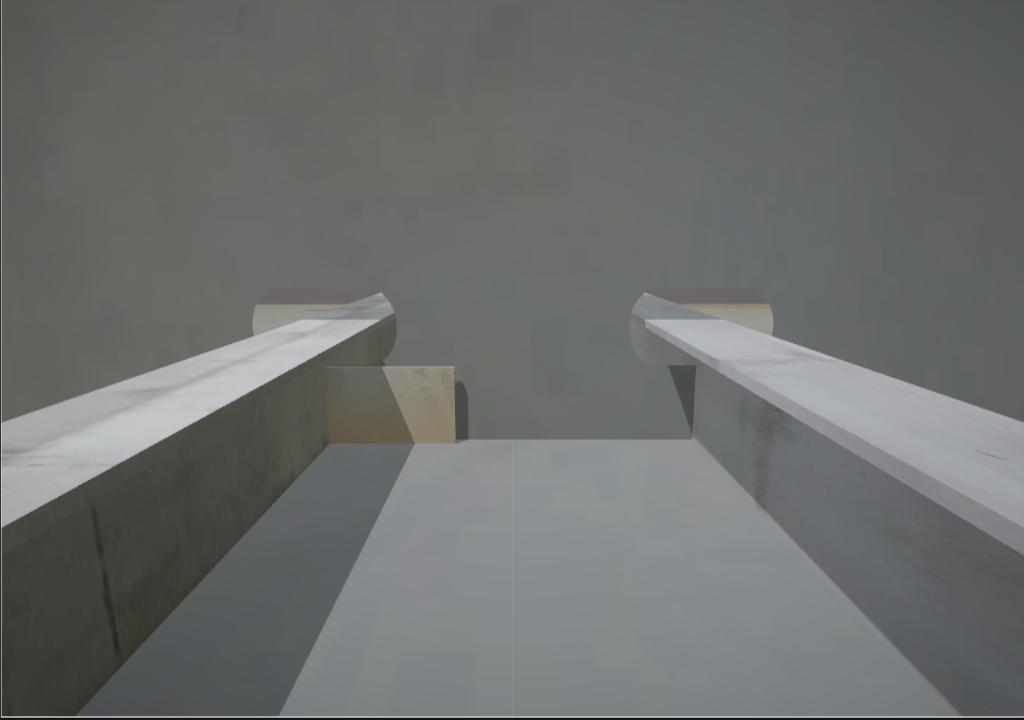fillet_yong_jeop_jang: (457, 431, 695, 448)
longi_yong_jeop_jang: (687, 362, 704, 447)
plate_CP01: (327, 365, 459, 444)
